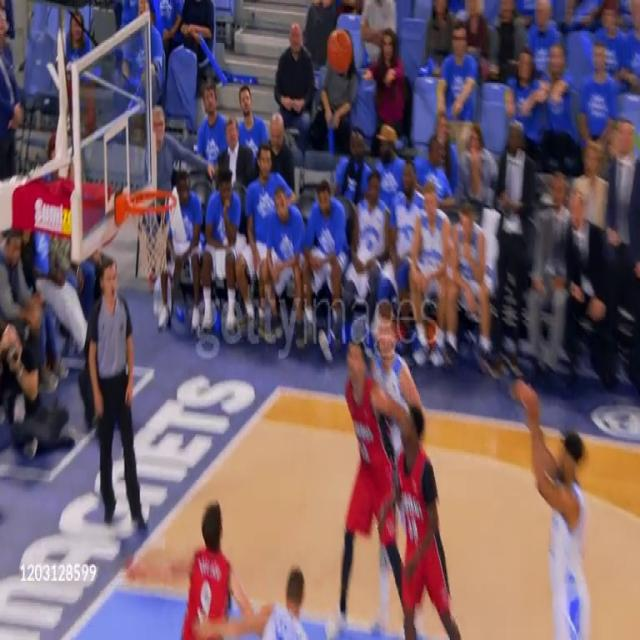ball: (326, 28, 356, 74)
